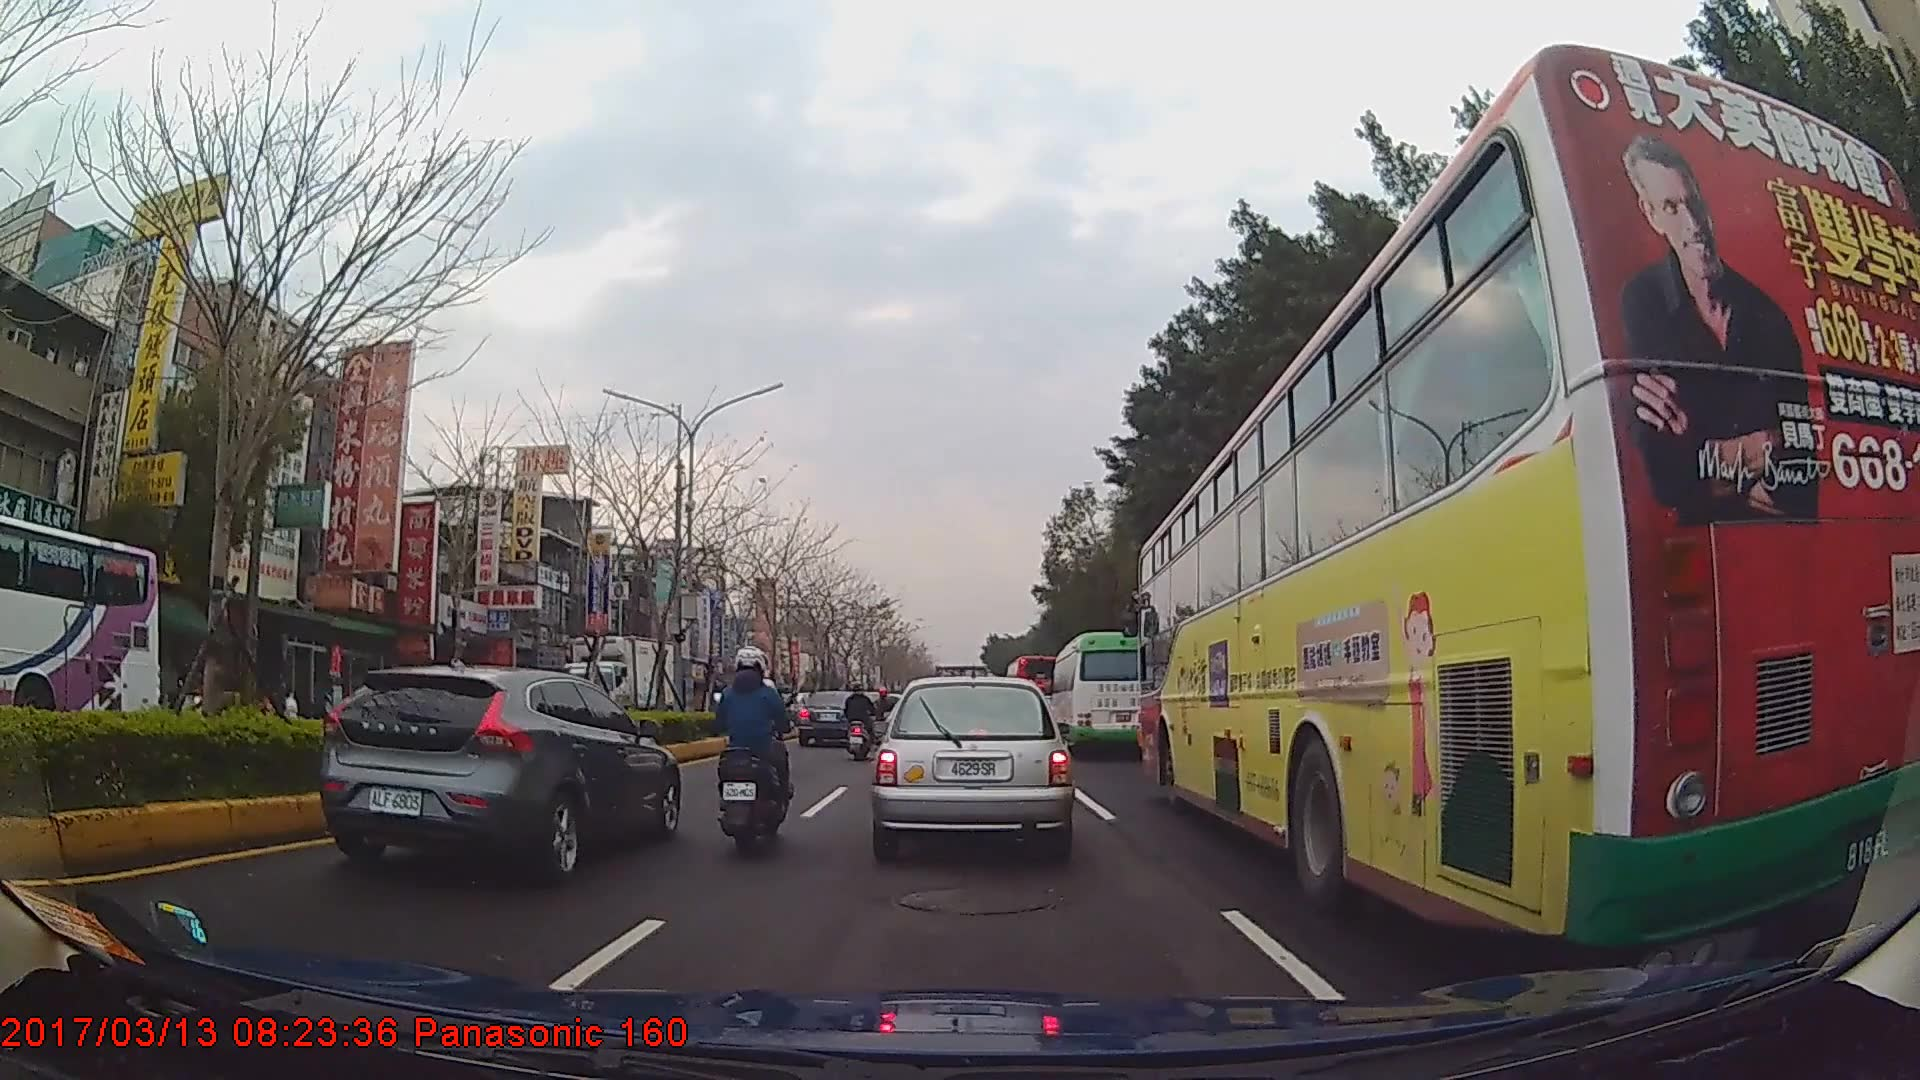rider: (713, 640, 796, 841), (745, 669, 786, 774), (843, 680, 879, 752), (872, 687, 897, 742)
vehicle: (1138, 36, 1920, 954), (321, 661, 681, 876), (0, 513, 162, 746), (873, 669, 1072, 852), (533, 622, 688, 752), (1049, 630, 1166, 757), (1003, 650, 1065, 724), (798, 686, 873, 744)
